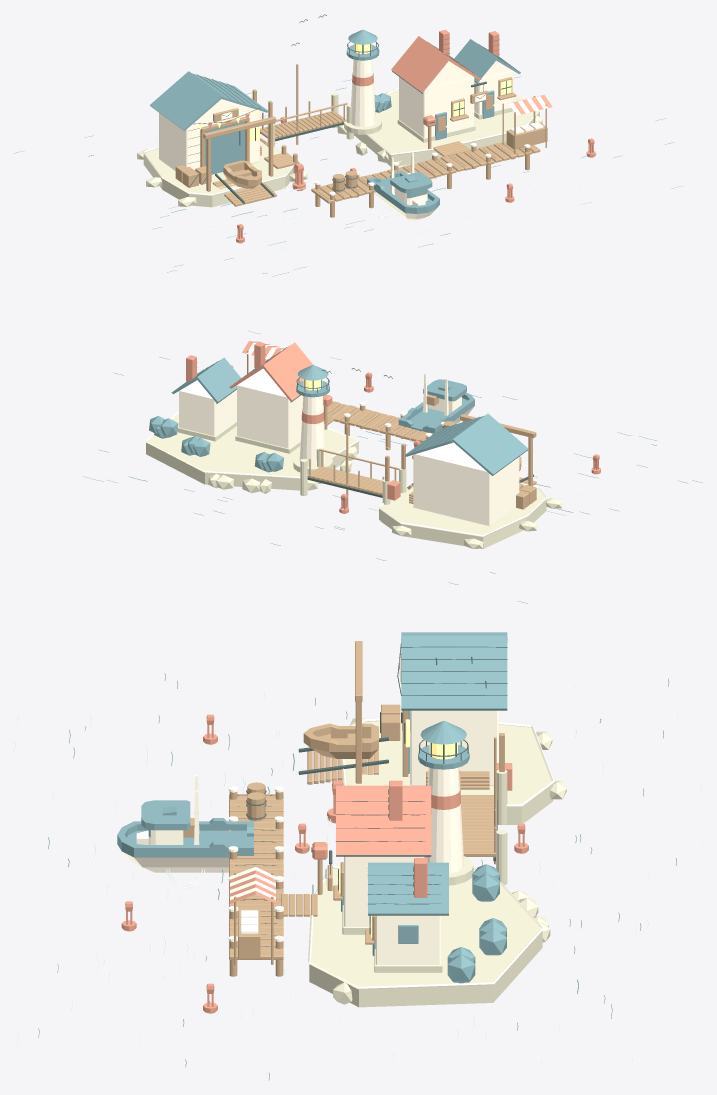
Rendered from approved-harbor-v5.glb.
3 renders of one model, top to bottom at view 1: azimuth 30°, elevation 25°; view 2: azimuth 150°, elevation 25°; view 3: azimuth 270°, elevation 25°, orthographic. The views are drawn at different scales.
Parts seen in each view (by area): view 1: HarborStatic_MAT_V4_Timber, HarborStatic_MAT_V4_Chalk, HarborStatic_MAT_V4_Stone, HarborStatic_MAT_V4_Slate, HarborStatic_MAT_V4_Terracotta, ApprovedMailboat_MAT_V4_Slate, ApprovedLiftBridge_MAT_V4_Timber, HarborStatic_MAT_V4_Ink, HarborStatic_MAT_V4_Wash, ApprovedMailboat_MAT_V4_Chalk, HarborStatic_MAT_V4_Lamplight; view 2: HarborStatic_MAT_V4_Chalk, HarborStatic_MAT_V4_Stone, HarborStatic_MAT_V4_Slate, HarborStatic_MAT_V4_Timber, HarborStatic_MAT_V4_Terracotta, ApprovedMailboat_MAT_V4_Slate, ApprovedLiftBridge_MAT_V4_Timber, HarborStatic_MAT_V4_Wash, HarborStatic_MAT_V4_Ink, ApprovedMailboat_MAT_V4_Chalk; view 3: HarborStatic_MAT_V4_Stone, HarborStatic_MAT_V4_Slate, HarborStatic_MAT_V4_Chalk, HarborStatic_MAT_V4_Timber, HarborStatic_MAT_V4_Terracotta, ApprovedMailboat_MAT_V4_Slate, HarborStatic_MAT_V4_Ink, ApprovedMailboat_MAT_V4_Chalk, ApprovedLiftBridge_MAT_V4_Timber, HarborStatic_MAT_V4_Wash.
Part boxes in pixels (bbox=[...]): HarborStatic_MAT_V4_Timber: bbox=[175, 77, 547, 217]; HarborStatic_MAT_V4_Chalk: bbox=[143, 59, 547, 195]; HarborStatic_MAT_V4_Stone: bbox=[137, 89, 542, 207]; HarborStatic_MAT_V4_Slate: bbox=[14, 29, 683, 276]; HarborStatic_MAT_V4_Terracotta: bbox=[208, 29, 595, 243]; ApprovedMailboat_MAT_V4_Slate: bbox=[367, 170, 439, 213]; ApprovedLiftBridge_MAT_V4_Timber: bbox=[260, 64, 347, 144]; HarborStatic_MAT_V4_Ink: bbox=[182, 14, 524, 203]; HarborStatic_MAT_V4_Wash: bbox=[50, 39, 702, 293]; ApprovedMailboat_MAT_V4_Chalk: bbox=[374, 152, 435, 220]; HarborStatic_MAT_V4_Lamplight: bbox=[198, 43, 511, 141]; HarborStatic_MAT_V4_Chalk: bbox=[145, 342, 547, 536]; HarborStatic_MAT_V4_Stone: bbox=[146, 405, 562, 548]; HarborStatic_MAT_V4_Slate: bbox=[83, 330, 702, 603]; HarborStatic_MAT_V4_Timber: bbox=[247, 341, 536, 509]; HarborStatic_MAT_V4_Terracotta: bbox=[186, 341, 600, 513]; ApprovedMailboat_MAT_V4_Slate: bbox=[398, 379, 474, 433]; ApprovedLiftBridge_MAT_V4_Timber: bbox=[308, 426, 399, 507]; HarborStatic_MAT_V4_Wash: bbox=[14, 322, 693, 595]; HarborStatic_MAT_V4_Ink: bbox=[171, 347, 533, 482]; ApprovedMailboat_MAT_V4_Chalk: bbox=[409, 373, 474, 442]; HarborStatic_MAT_V4_Stone: bbox=[309, 718, 566, 1007]; HarborStatic_MAT_V4_Slate: bbox=[38, 632, 676, 1080]; HarborStatic_MAT_V4_Chalk: bbox=[228, 710, 554, 989]; HarborStatic_MAT_V4_Timber: bbox=[229, 641, 504, 976]; HarborStatic_MAT_V4_Terracotta: bbox=[121, 714, 528, 1013]; ApprovedMailboat_MAT_V4_Slate: bbox=[117, 800, 253, 857]; HarborStatic_MAT_V4_Ink: bbox=[235, 639, 507, 947]; ApprovedMailboat_MAT_V4_Chalk: bbox=[123, 775, 228, 872]; ApprovedLiftBridge_MAT_V4_Timber: bbox=[459, 737, 496, 864]; HarborStatic_MAT_V4_Wash: bbox=[14, 683, 702, 1080].
Bounding box in the file's own units: 27.26 × 6.41 × 19.49.
